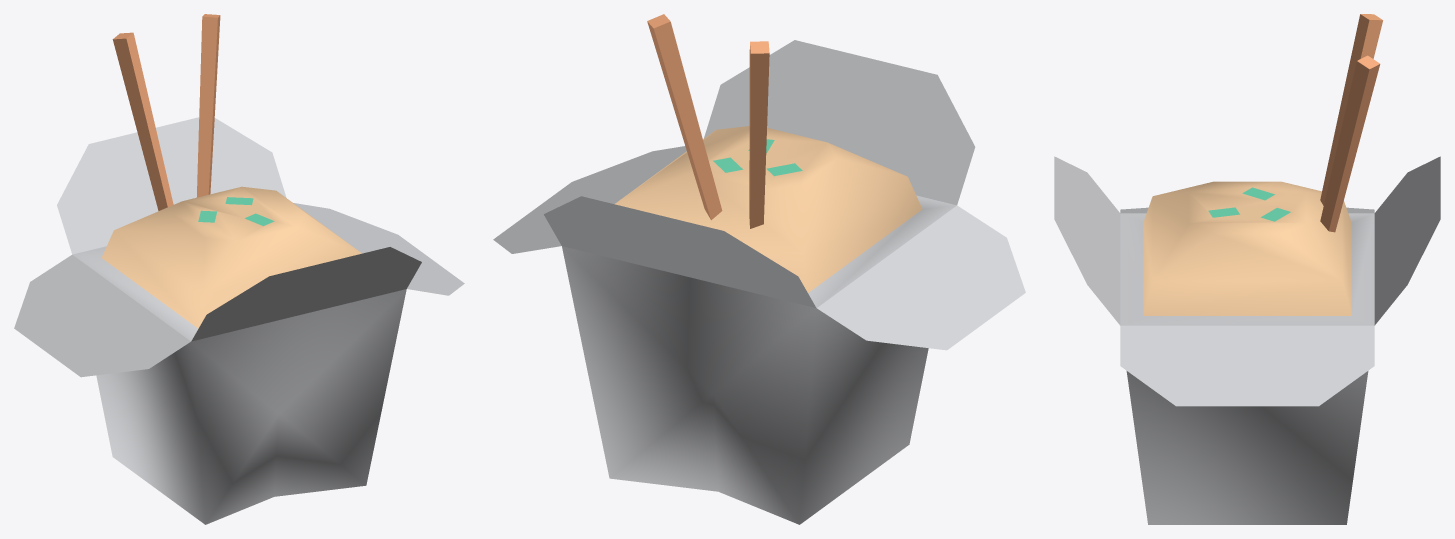
Rendered from Chinese.glb.
3 views of the same model, side by side, from view 1: azimuth 30°, elevation 25°; view 2: azimuth 150°, elevation 25°; view 3: azimuth 270°, elevation 25° (orthographic). The views are drawn at different scales.
Parts seen in each view (by area): view 1: chinese; view 2: chinese; view 3: chinese.
Boxes of the visible parts, bbox=[...] form: chinese: bbox=[14, 14, 464, 524]; chinese: bbox=[493, 14, 1025, 524]; chinese: bbox=[1054, 14, 1440, 524].
Size of the model in its own units: 0.5575 by 0.5671 by 0.4538.
